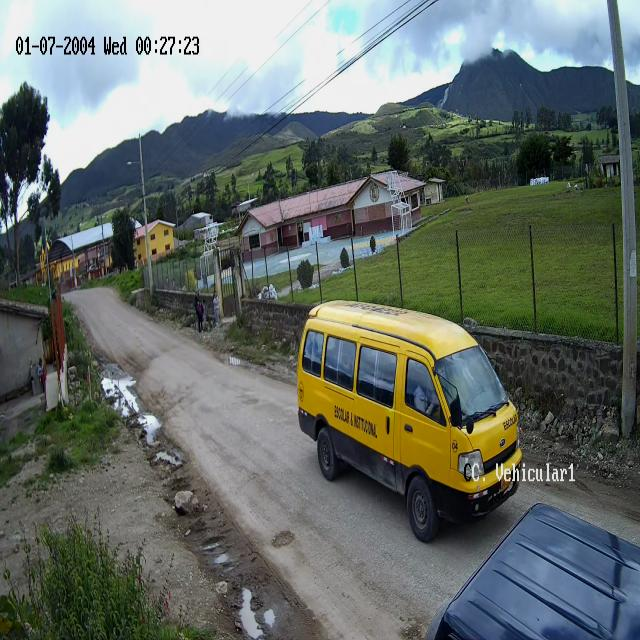BUS: (295, 304, 524, 543)
